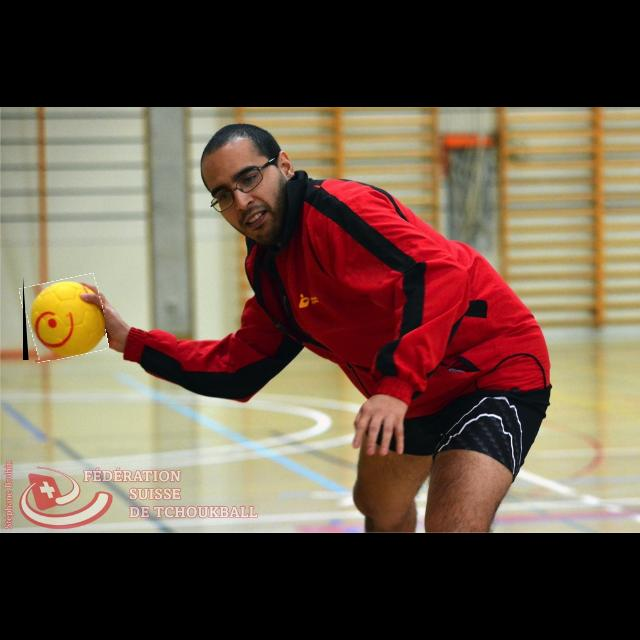Football: (23, 276, 105, 360)
